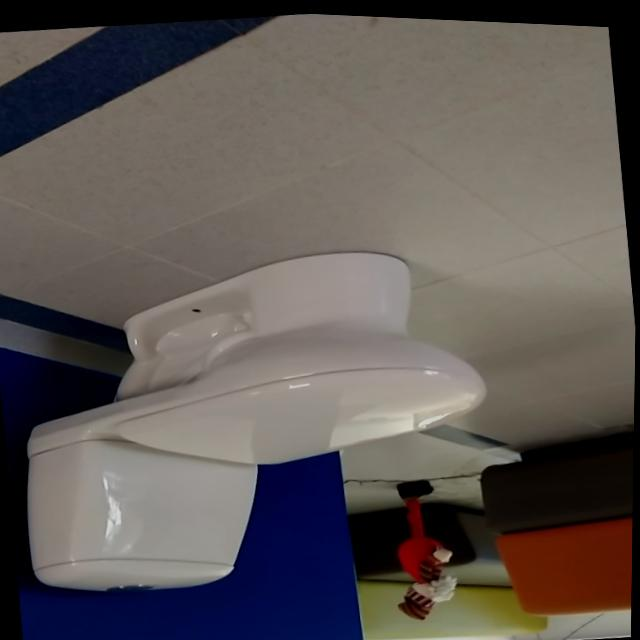toilet: (1, 223, 508, 614)
